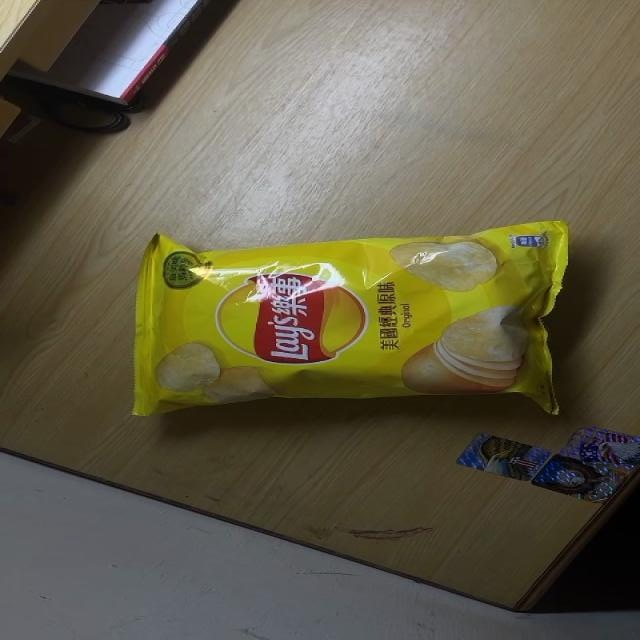Lay-s-original: (128, 218, 567, 419)
